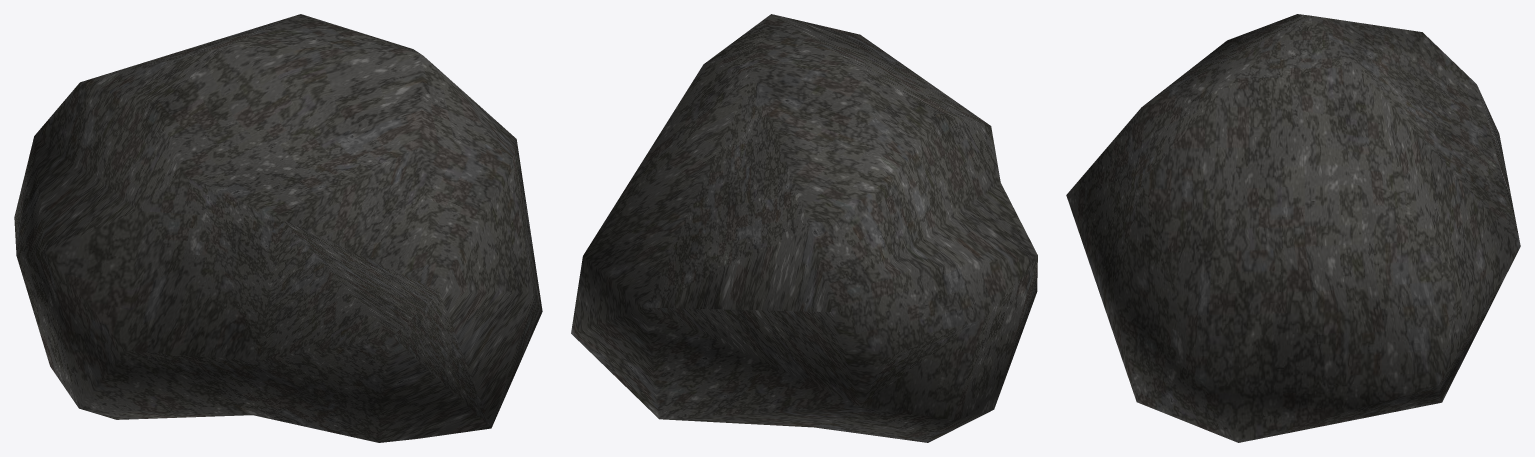
Rendered from AsteroidOptimised.fbx.
3 views of the same model, side by side, from view 1: azimuth 30°, elevation 25°; view 2: azimuth 150°, elevation 25°; view 3: azimuth 270°, elevation 25° (orthographic). The views are drawn at different scales.
Parts seen in each view (by area): view 1: Sphere; view 2: Sphere; view 3: Sphere.
Boxes of the visible parts, x1,y1,x2,y2 form: Sphere: (14, 14, 542, 442); Sphere: (571, 14, 1037, 442); Sphere: (1066, 14, 1520, 442).
Size of the model in its own units: 5.16 by 4.36 by 5.18.
